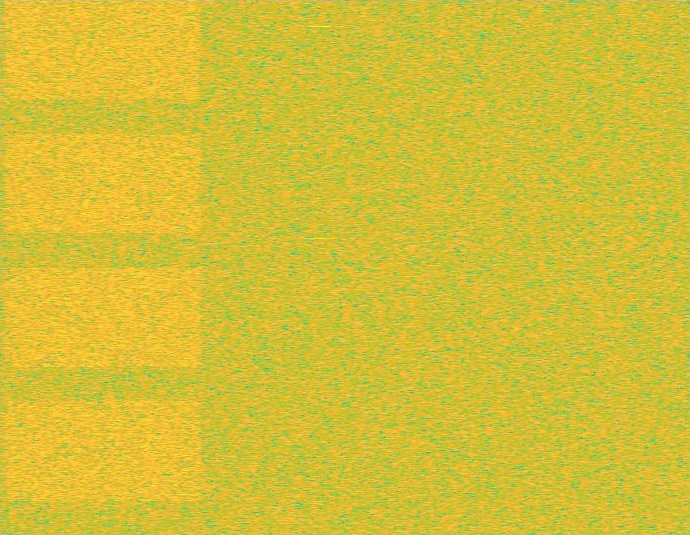5G: (0, 0, 207, 534)
Radar: (313, 0, 327, 534)
